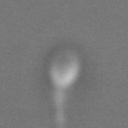abnormal: (41, 87, 86, 128)
